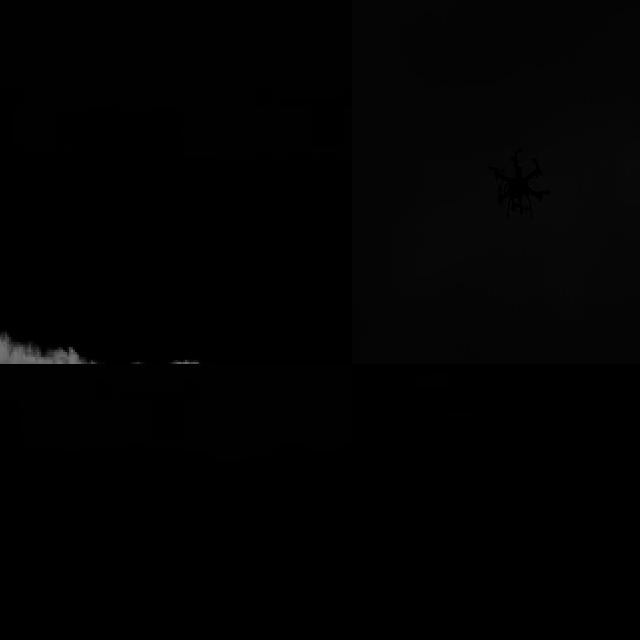0: (65, 270, 97, 300)
drone: (487, 139, 553, 227)
